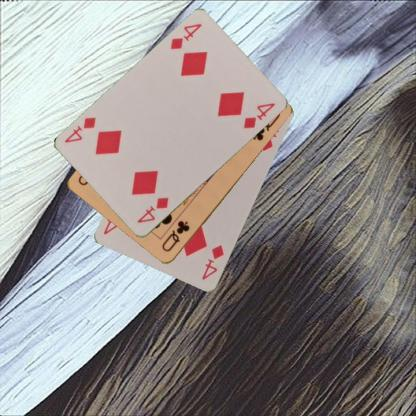4d: (134, 195, 170, 225), (167, 21, 203, 51), (200, 242, 226, 282)
Qc: (159, 218, 191, 254)
